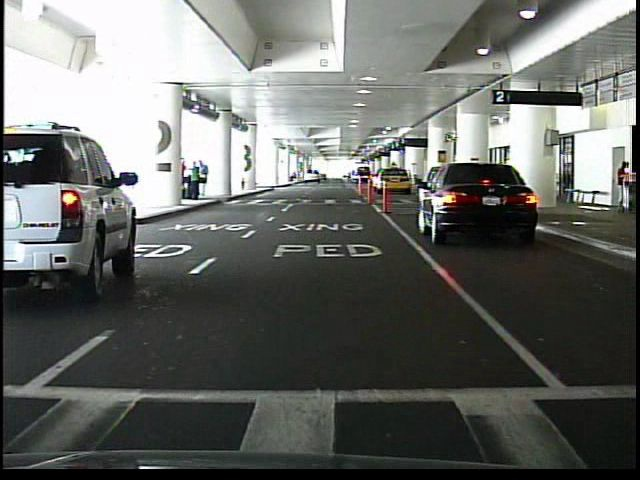person: (614, 163, 630, 217), (187, 160, 200, 201), (199, 161, 210, 198)
